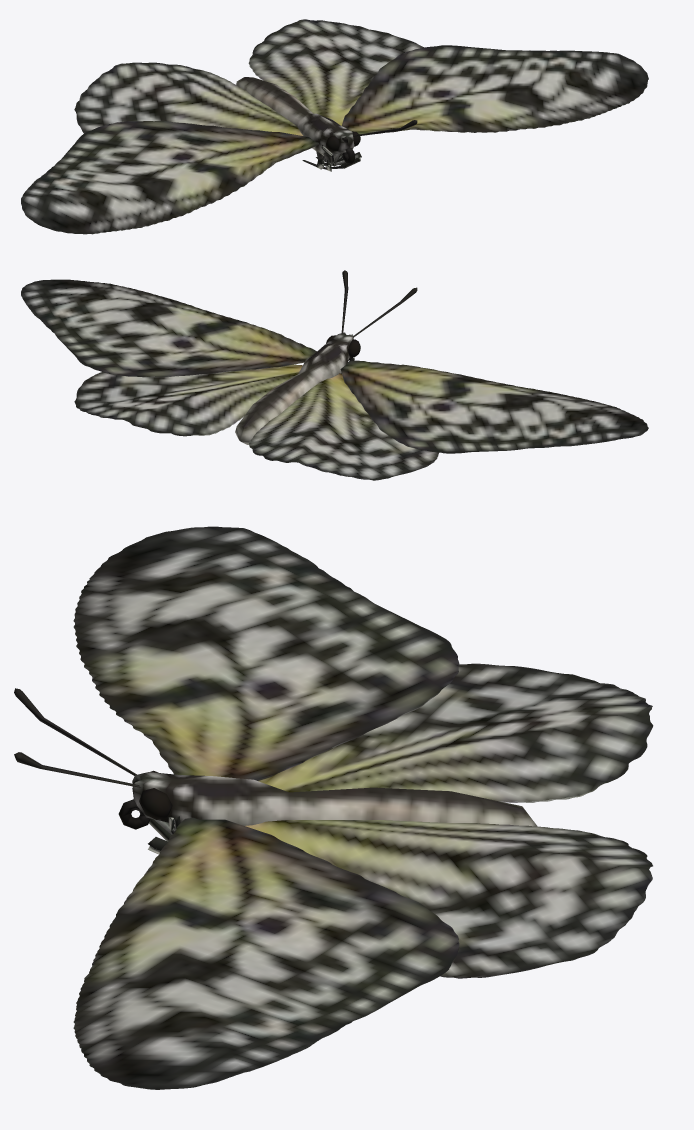
Rendered from paper-kite-butterfly.glb.
3 views of the same model, one above another, from view 1: azimuth 30°, elevation 25°; view 2: azimuth 150°, elevation 25°; view 3: azimuth 270°, elevation 25° (orthographic). The views are drawn at different scales.
Size of the model in its own units: 7.23 by 0.8623 by 3.38.
Materials: 1 (1 with a texture image).
